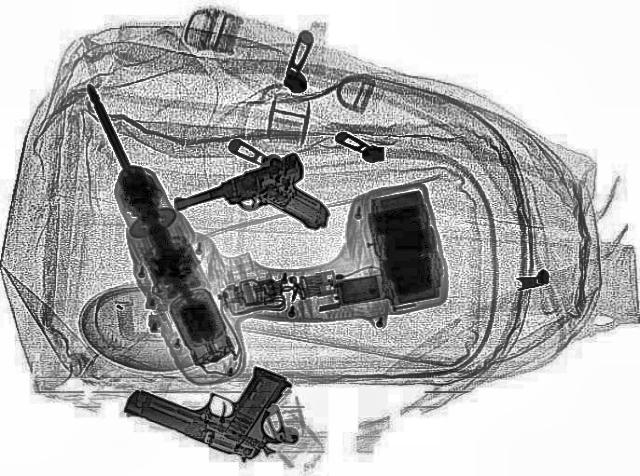Gun: (114, 336, 320, 466), (164, 151, 348, 267)
